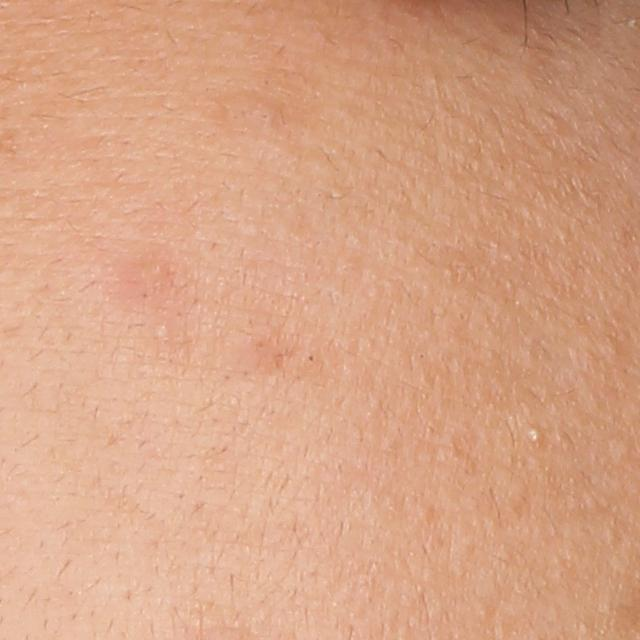comedo: (302, 347, 323, 368), (525, 427, 543, 444)
